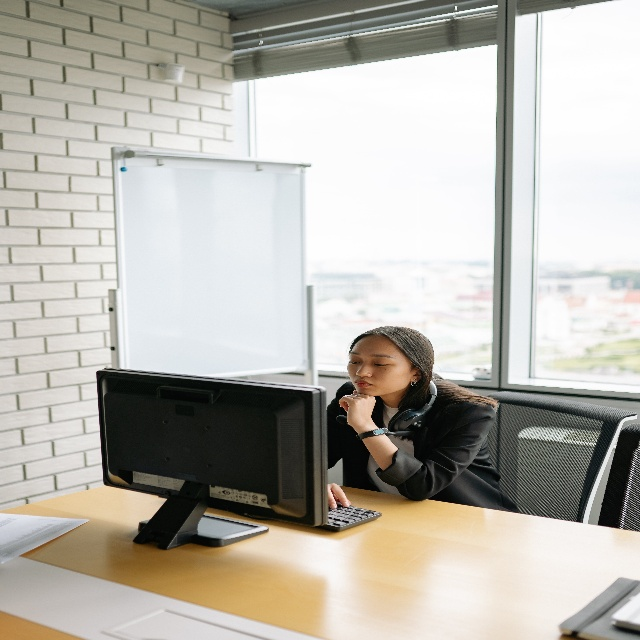Sin_guantes: (339, 392, 375, 428), (327, 482, 350, 514)
